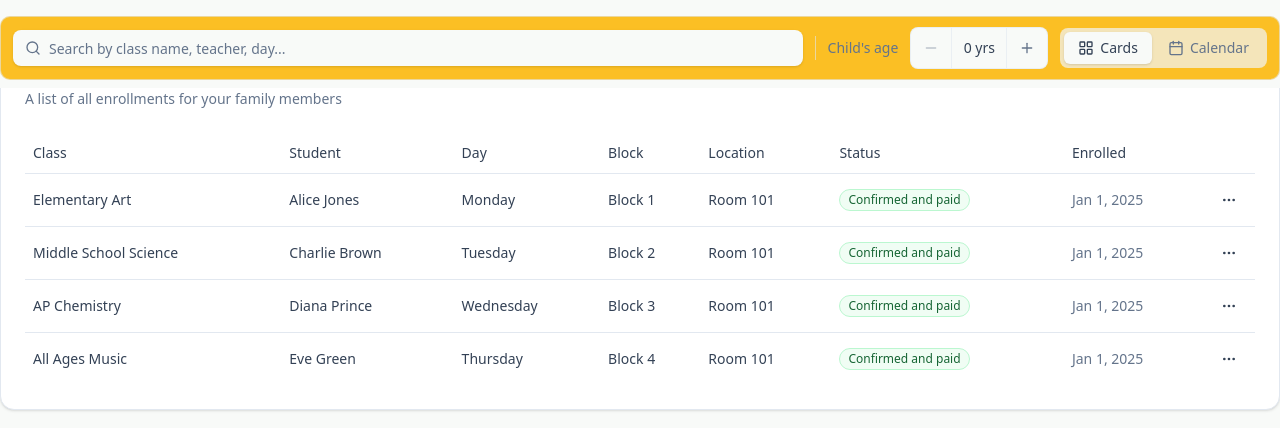
Test: EnrollmentListClient filter bar › search filter › clears search when X button is clicked
Type "Elementary" into the field with test id "enrollment-search-input" at (408, 48), box [13,30,803,66]
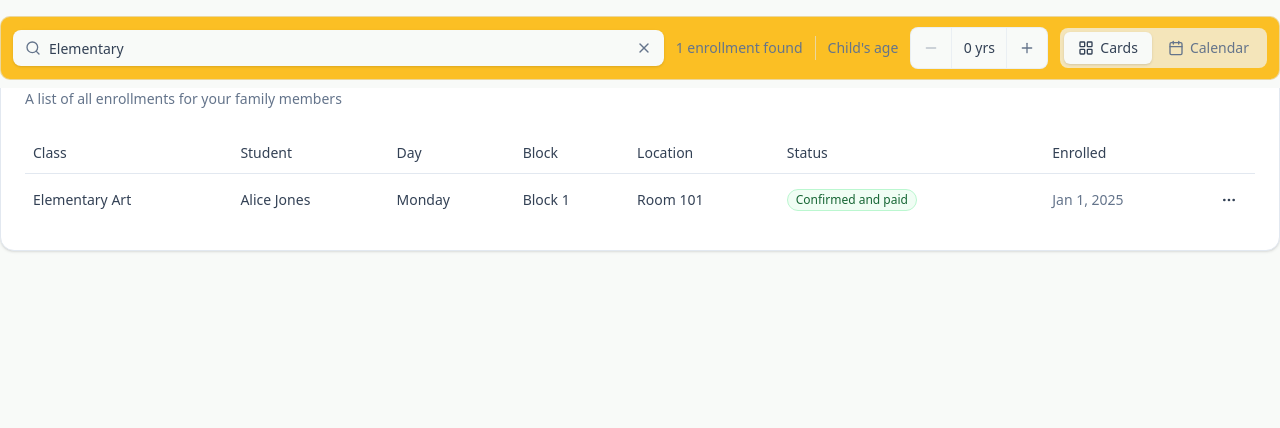
Check: the text "1 enrollment found" is shown, box [676,38,802,58]
Click the button named "Clear search" at (644, 48), box [636,40,652,56]
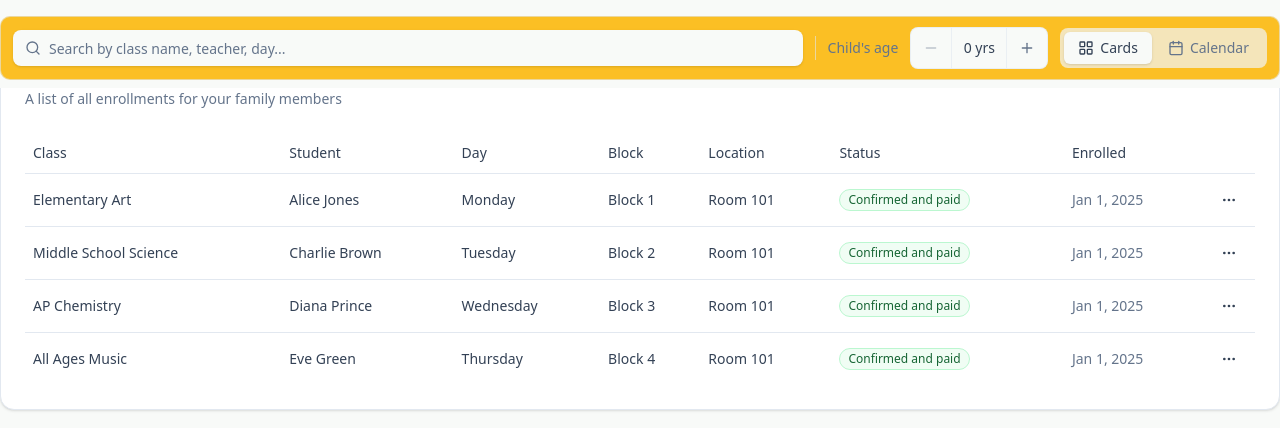
Check: the text "enrollment found" is gone
